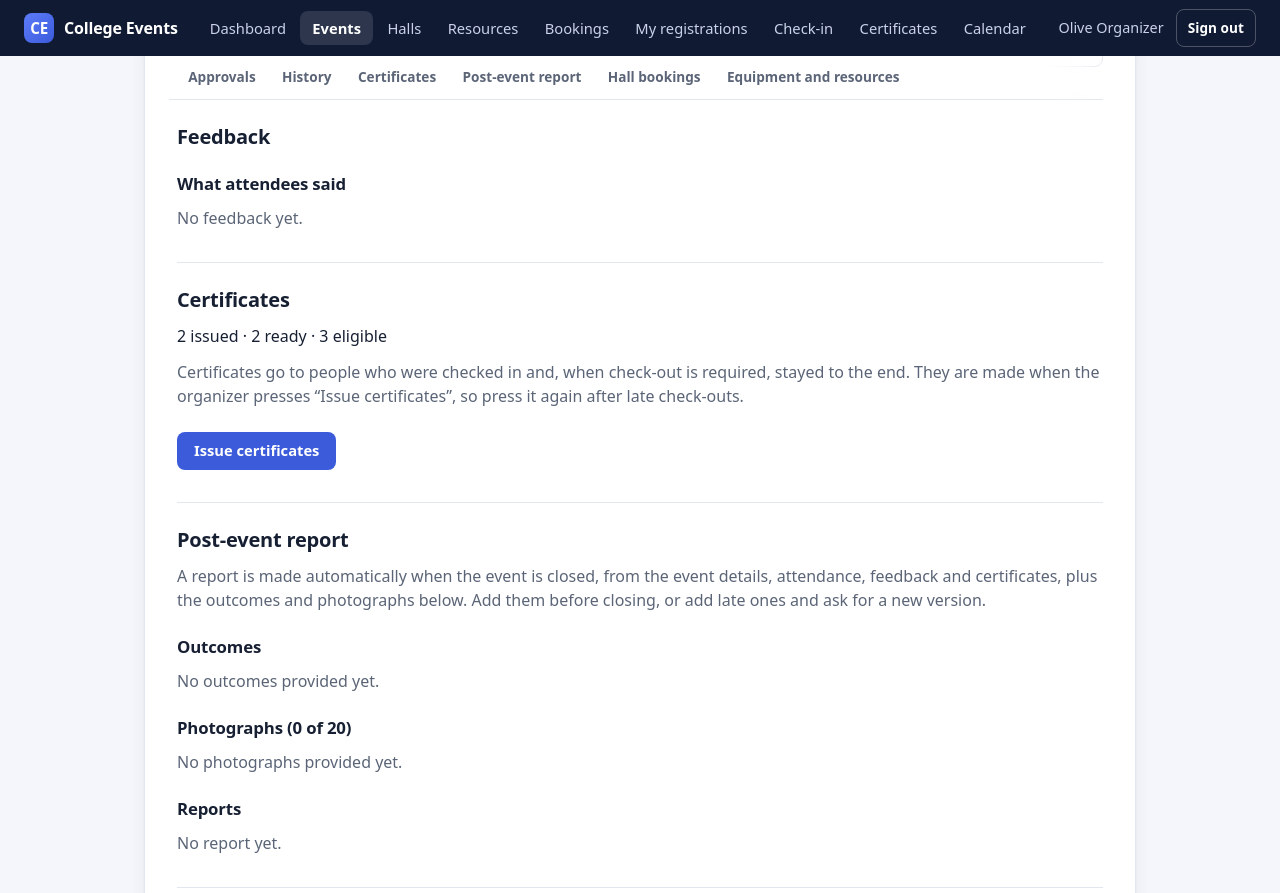
certificates on the event page (staff) › asks for certificates to be issued
(page scrolled)
Click the button "Issue certificates" at {"x": 257, "y": 451}, box [177,432,336,470]
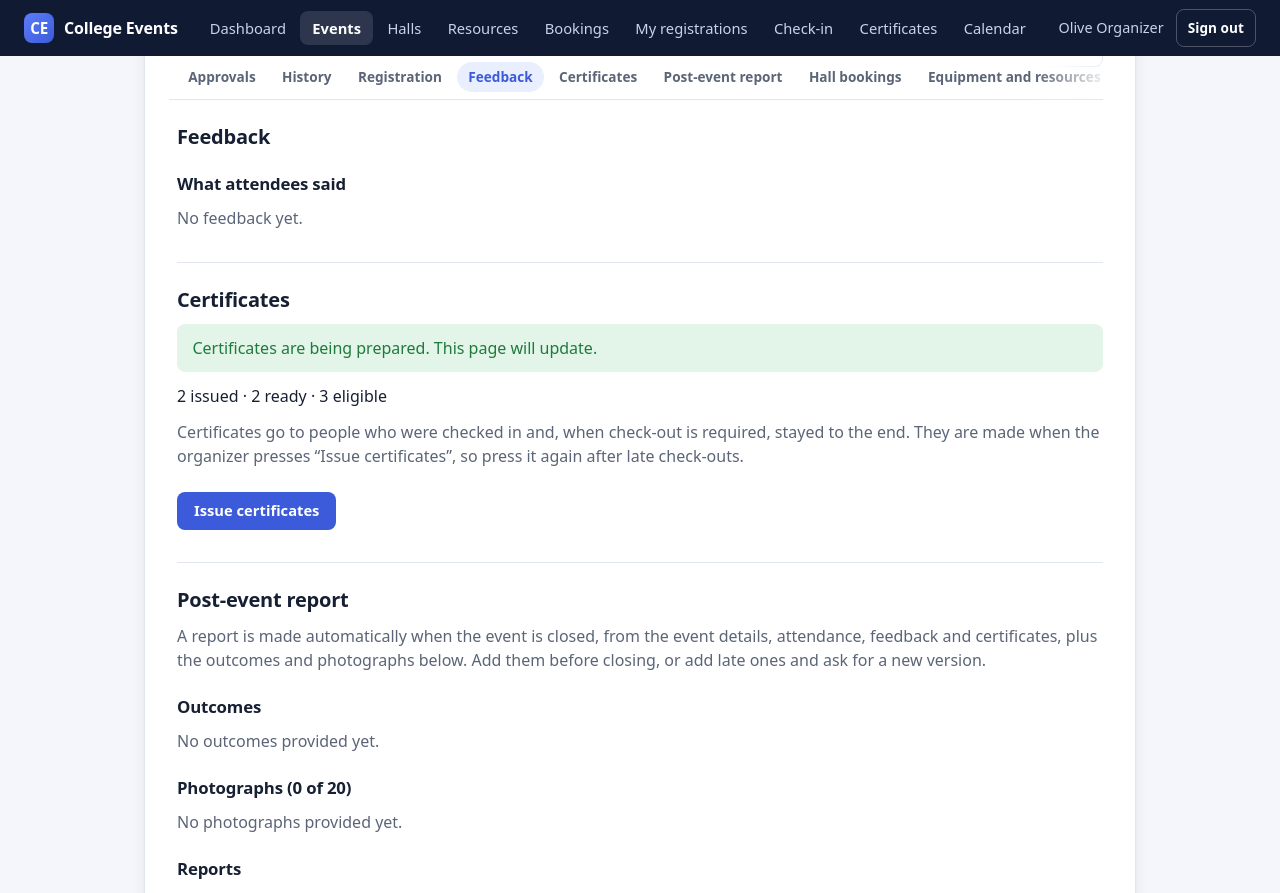
Now the message shows "Certificates are being prepared", box [192,337,597,359]
